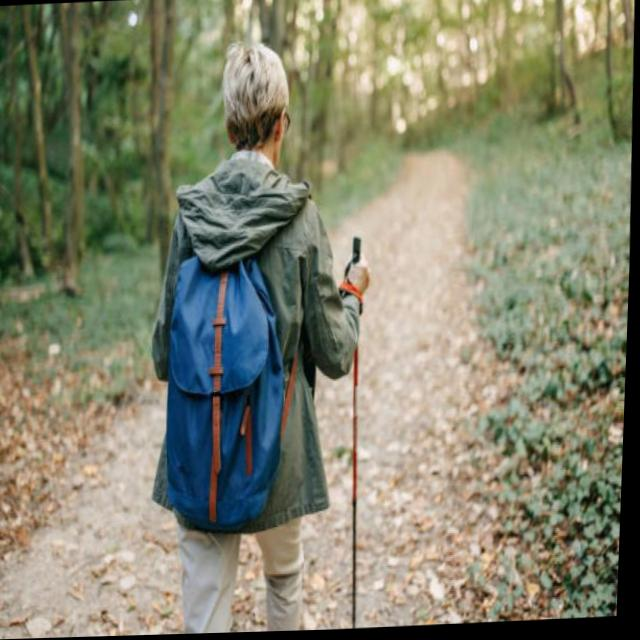no helmet: (197, 23, 304, 196)
